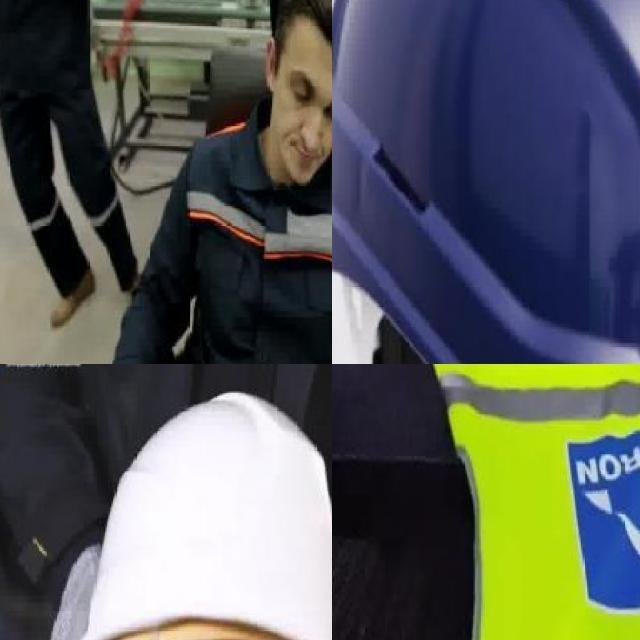apron: (46, 538, 168, 640)
